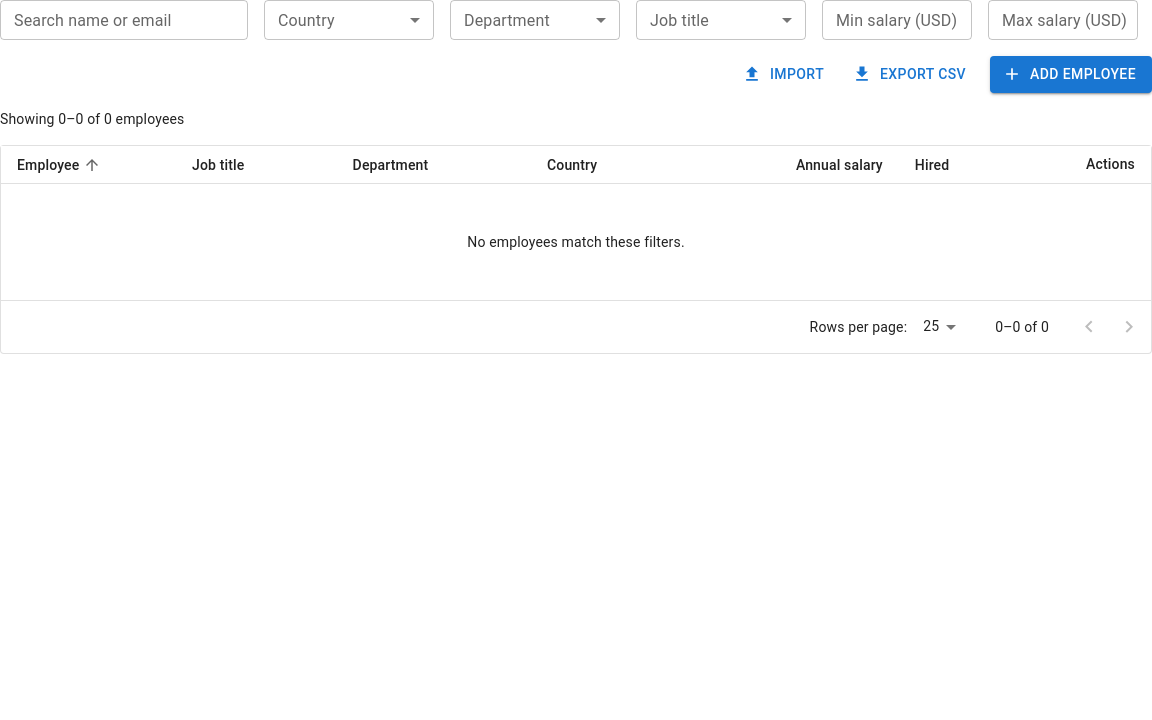
Test case: EmployeesPage › blocks submit and shows errors when the form is invalid
The width and height of the screenshot is (1152, 720).
Click the button "Add employee".
click(1071, 74)  # box [990, 56, 1151, 92]
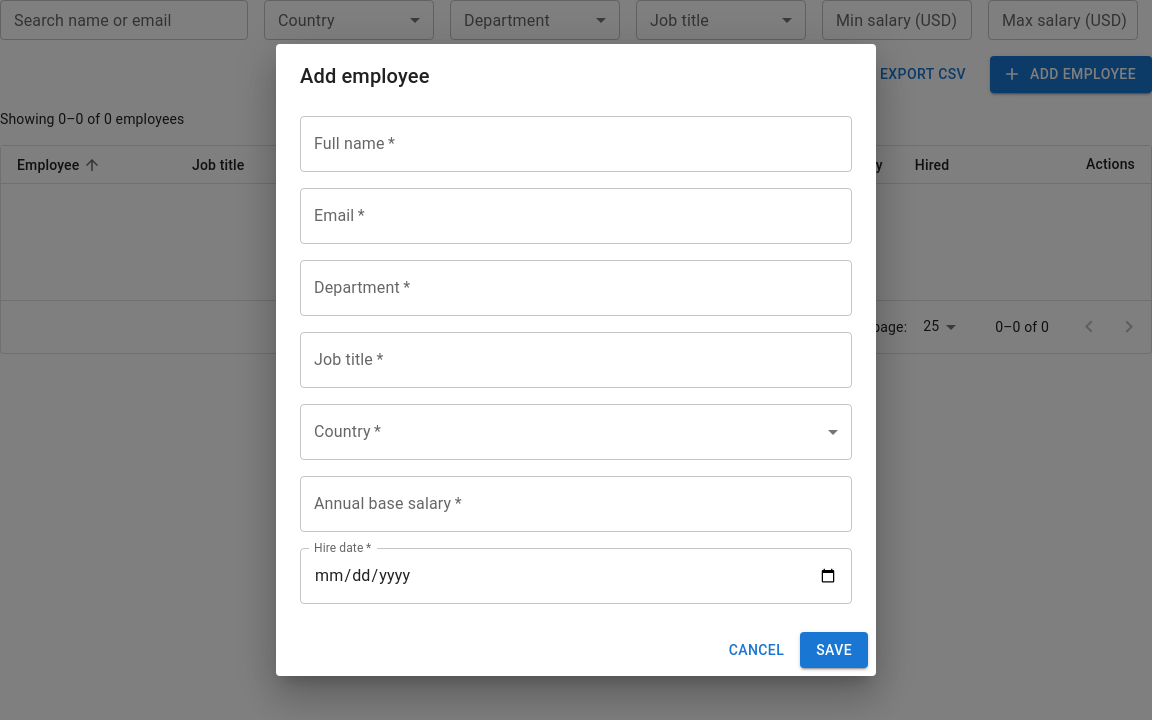
Click the button "Save".
click(834, 650)  # box [800, 632, 868, 668]
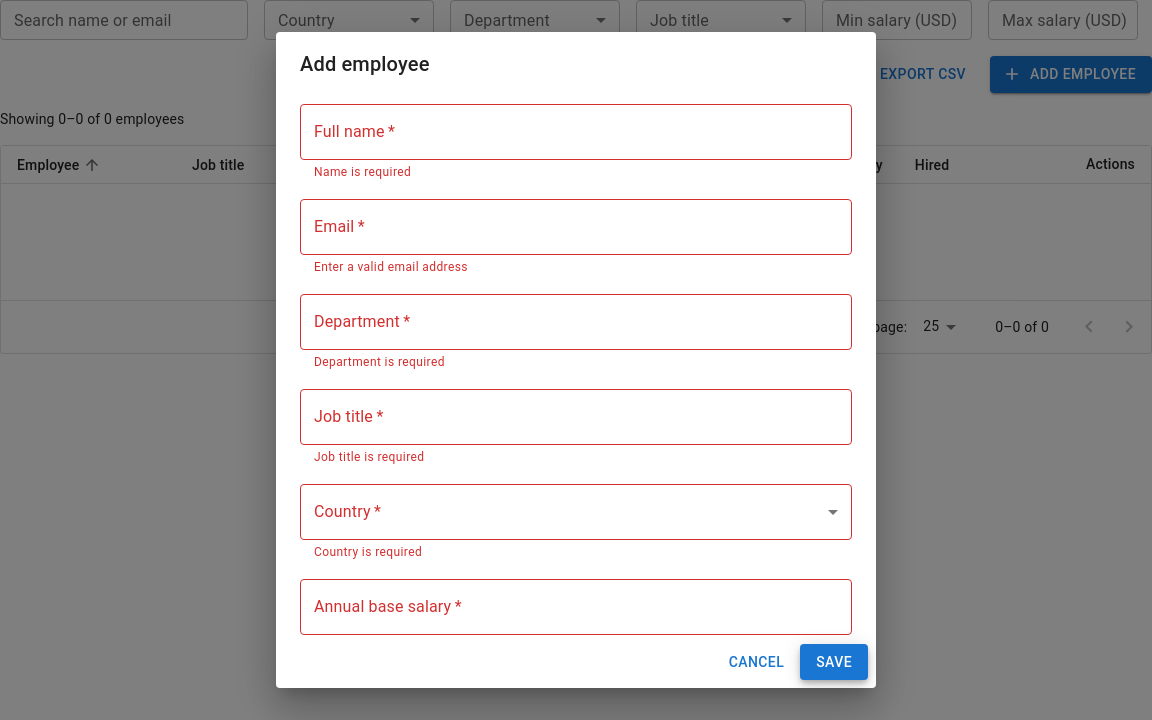
Now the text "Name is required" is shown, box [314, 165, 411, 179]
